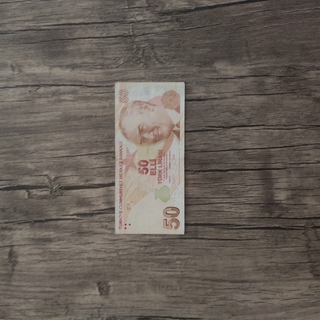50TLFront: (113, 81, 185, 235)
